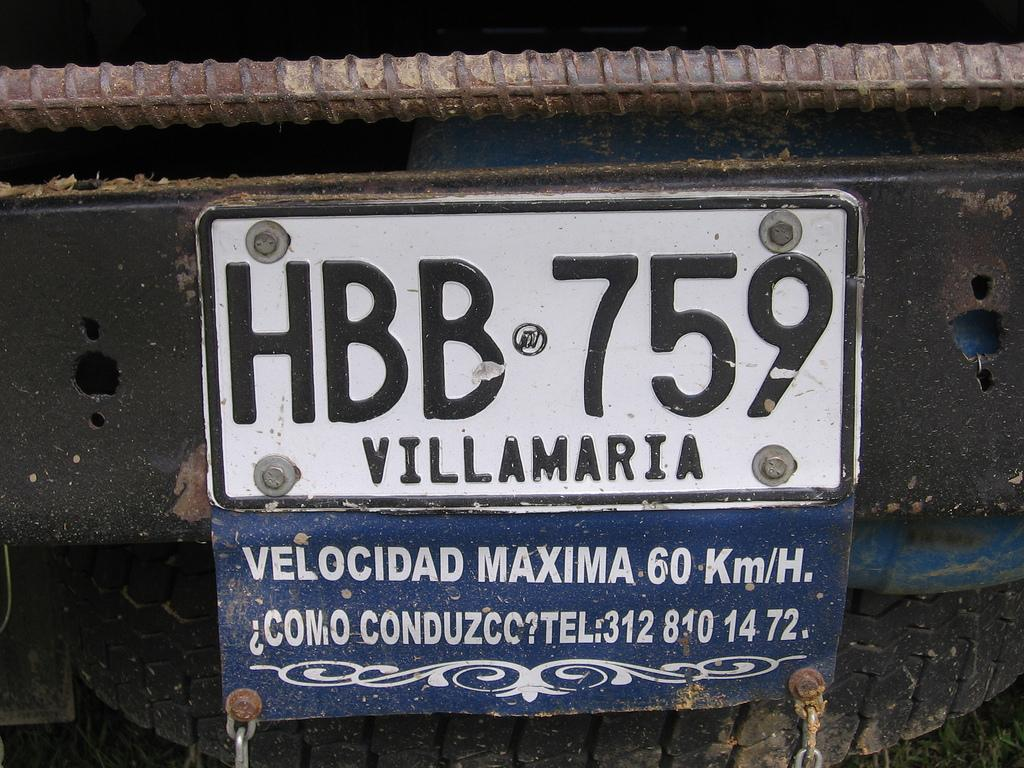placas: (188, 183, 870, 521)
